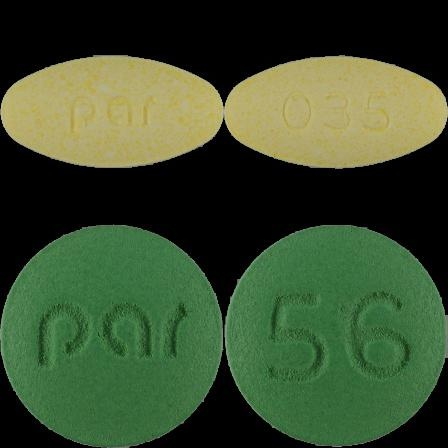49884-035: (0, 0, 224, 224)
